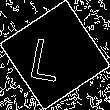L_N: (35, 27, 75, 83)
